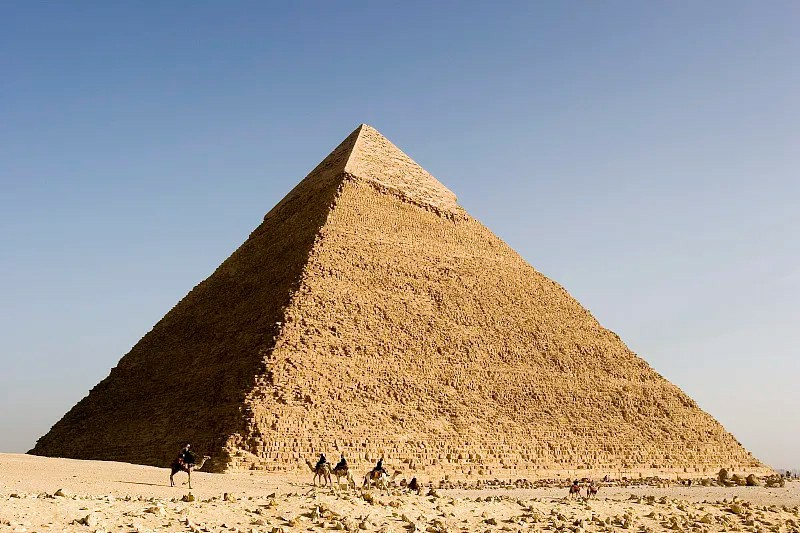Pyramid: (25, 124, 769, 475)
